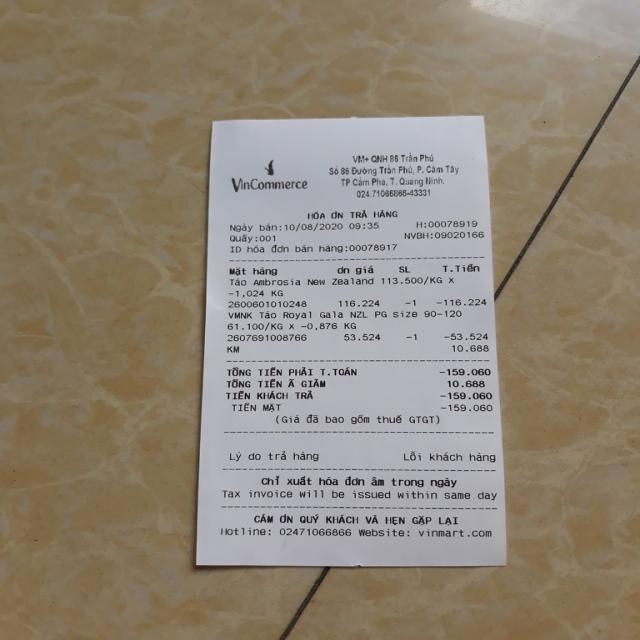Date: (284, 221, 343, 231)
Store_Name: (228, 173, 314, 195)
amount_number: (445, 365, 494, 378)
label_total: (227, 367, 361, 377)
